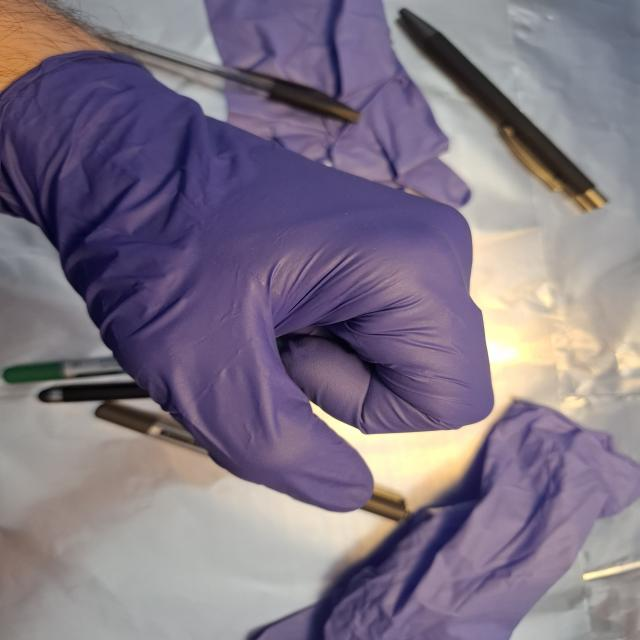glove_on: (0, 44, 501, 514)
